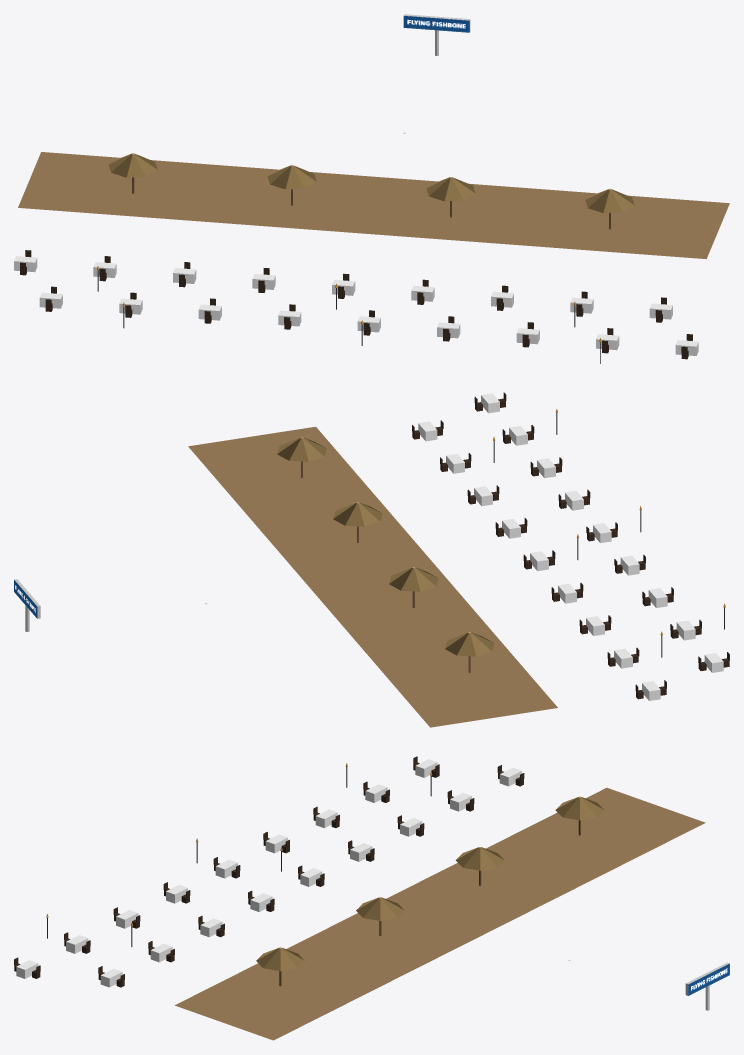
The model's file is fishbone_fx.glb.
3 views of the same model, one above another, from view 1: azimuth 30°, elevation 25°; view 2: azimuth 150°, elevation 25°; view 3: azimuth 270°, elevation 25° (orthographic). The views are drawn at different scales.
Parts seen in each view (by area): view 1: fishbone_fx_lod0; view 2: fishbone_fx_lod0; view 3: fishbone_fx_lod0.
Part boxes in pixels (x1,y1,x2,y2): fishbone_fx_lod0: (14,14,729,363); fishbone_fx_lod0: (14,392,729,727); fishbone_fx_lod0: (14,756,729,1040).
Size of what is drawn, in the model's own units: 52.35 by 4.41 by 55.34.
11 materials, 1 textured.
